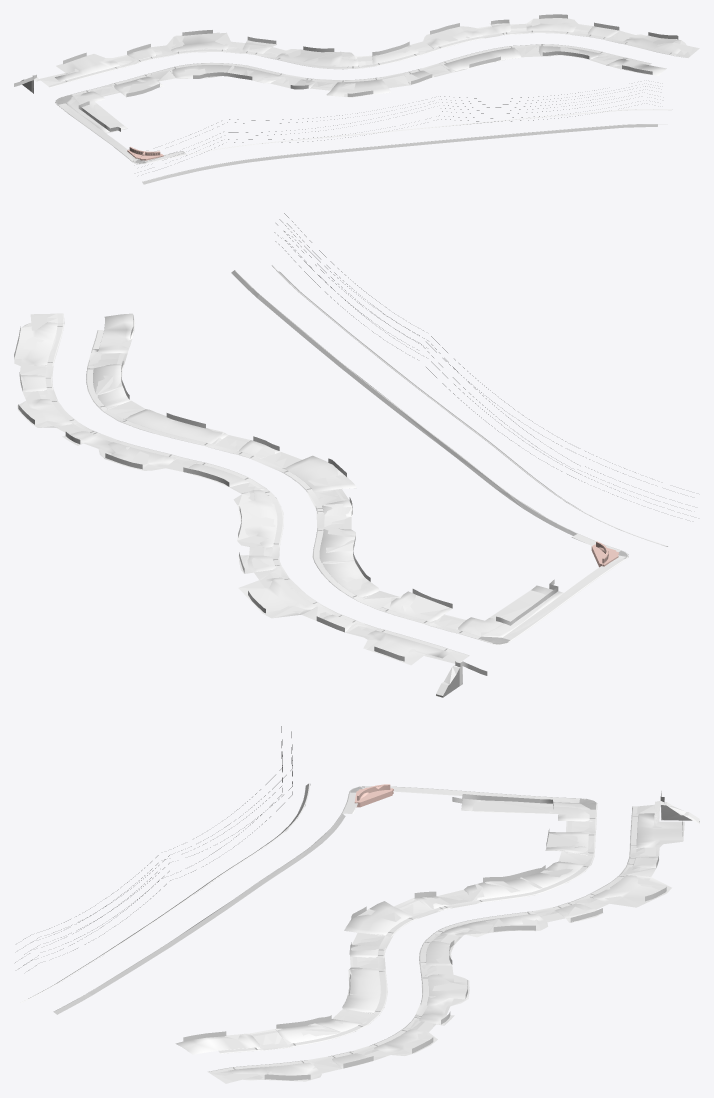
The model's file is sidewalk_suburb3.dae.
3 renders of one model, top to bottom at view 1: azimuth 30°, elevation 25°; view 2: azimuth 150°, elevation 25°; view 3: azimuth 270°, elevation 25°, orthographic. The views are drawn at different scales.
Visible parts, largest first — view 1: sidewalk_suburb1_a4000, sidewalk_suburb1_a1900; view 2: sidewalk_suburb1_a4000, sidewalk_suburb1_a1900; view 3: sidewalk_suburb1_a4000, sidewalk_suburb1_a1900.
Boxes of the visible parts, x1,y1,x2,y2 form: sidewalk_suburb1_a4000: (14, 14, 699, 184); sidewalk_suburb1_a1900: (22, 18, 699, 183); sidewalk_suburb1_a4000: (14, 213, 667, 697); sidewalk_suburb1_a1900: (14, 272, 667, 697); sidewalk_suburb1_a4000: (15, 726, 699, 1081); sidewalk_suburb1_a1900: (38, 784, 699, 1083).
Bounding box in the file's own units: 231 × 193 × 38.64.
